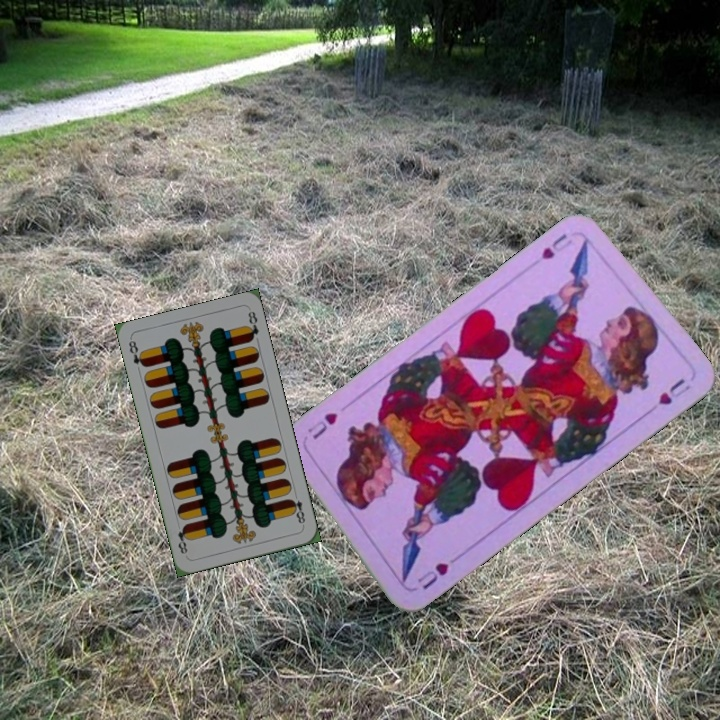E8: (286, 489, 308, 529), (124, 336, 148, 370)
HU: (537, 229, 580, 263), (413, 558, 451, 592)
